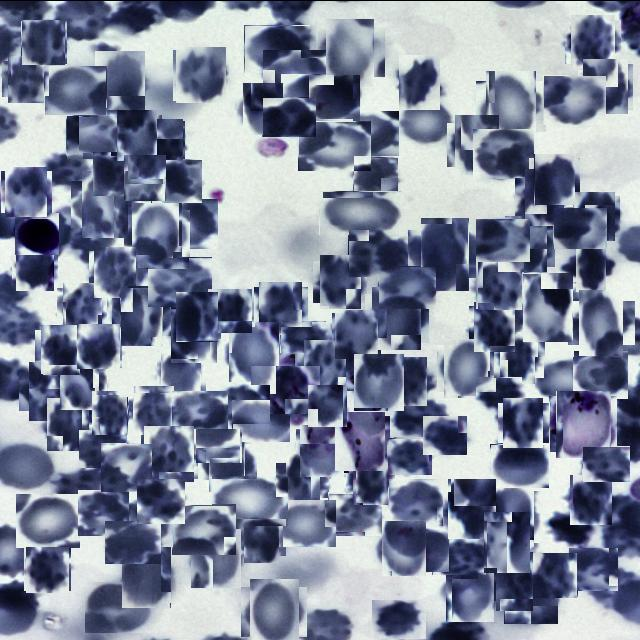leukocyte: (14, 211, 59, 254)
red blood cell: (212, 476, 288, 526), (414, 223, 476, 284), (298, 120, 371, 170), (319, 190, 401, 234), (481, 76, 541, 136), (518, 276, 578, 336), (84, 580, 153, 632), (16, 493, 80, 547), (245, 582, 303, 640), (480, 487, 538, 545), (128, 205, 186, 263), (322, 23, 379, 81), (147, 256, 212, 306), (76, 175, 133, 232), (172, 504, 236, 554), (369, 289, 425, 346), (244, 24, 310, 72), (262, 48, 328, 96), (543, 74, 606, 124), (92, 53, 148, 109), (156, 198, 218, 248), (46, 66, 108, 116), (119, 549, 174, 605), (574, 294, 629, 350), (445, 480, 500, 536), (473, 128, 534, 178), (188, 530, 244, 584), (226, 324, 282, 378), (274, 498, 336, 546), (536, 356, 602, 401), (479, 514, 534, 568), (352, 354, 406, 408), (335, 110, 399, 155), (142, 426, 196, 479), (175, 48, 228, 102), (443, 566, 498, 618), (66, 108, 123, 158), (396, 97, 456, 144), (440, 341, 493, 394), (116, 270, 168, 322), (452, 118, 504, 170), (116, 288, 168, 340), (168, 308, 220, 359), (388, 477, 443, 525), (299, 343, 350, 394), (490, 443, 549, 487), (574, 351, 628, 398), (568, 16, 618, 66), (580, 61, 630, 111), (501, 220, 551, 270), (475, 258, 525, 308), (379, 522, 429, 572), (378, 265, 436, 308), (24, 366, 74, 415), (101, 443, 152, 491), (308, 73, 360, 120), (232, 399, 290, 441), (208, 384, 270, 423), (172, 390, 228, 433), (105, 520, 161, 563), (348, 228, 398, 276), (328, 492, 382, 536), (520, 172, 568, 221), (78, 489, 129, 535), (93, 151, 146, 195), (476, 218, 530, 261), (316, 257, 364, 305), (257, 284, 305, 332), (396, 58, 444, 106), (44, 400, 92, 448), (298, 426, 346, 474), (504, 581, 558, 623), (396, 529, 450, 571), (553, 206, 607, 248), (204, 438, 251, 486), (56, 358, 103, 406), (333, 310, 380, 358), (491, 557, 538, 605), (151, 158, 202, 202), (3, 168, 50, 215), (394, 398, 449, 438), (568, 546, 618, 590), (531, 156, 578, 202), (114, 111, 160, 158), (372, 600, 426, 640), (137, 478, 185, 523), (262, 96, 316, 136), (471, 303, 517, 349), (92, 248, 138, 294), (572, 192, 618, 238), (240, 85, 286, 131), (568, 476, 614, 522), (173, 294, 220, 339), (59, 284, 104, 330), (38, 326, 83, 372), (25, 546, 70, 591), (532, 552, 578, 596), (432, 537, 486, 574), (159, 348, 204, 392), (132, 387, 176, 432), (501, 400, 546, 444), (77, 323, 121, 368), (22, 19, 66, 64), (123, 155, 167, 200), (498, 336, 542, 380), (280, 458, 324, 502), (208, 288, 252, 332), (349, 458, 392, 501), (79, 430, 127, 468), (53, 466, 105, 501), (422, 414, 467, 454), (240, 516, 282, 558), (14, 246, 56, 288), (143, 119, 185, 161), (5, 57, 47, 99), (306, 384, 348, 426), (40, 146, 84, 186), (582, 445, 630, 481), (386, 437, 432, 474), (570, 245, 611, 286), (390, 360, 431, 401), (546, 510, 594, 545), (195, 427, 242, 462), (90, 392, 131, 432), (476, 376, 522, 410), (353, 156, 398, 190), (280, 320, 326, 352)
ring: (332, 412, 388, 468)
trophozoite: (552, 392, 614, 454), (256, 359, 315, 418)
